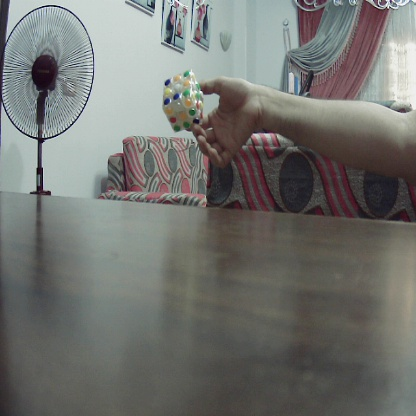Rubix Cube: (163, 71, 204, 132)
